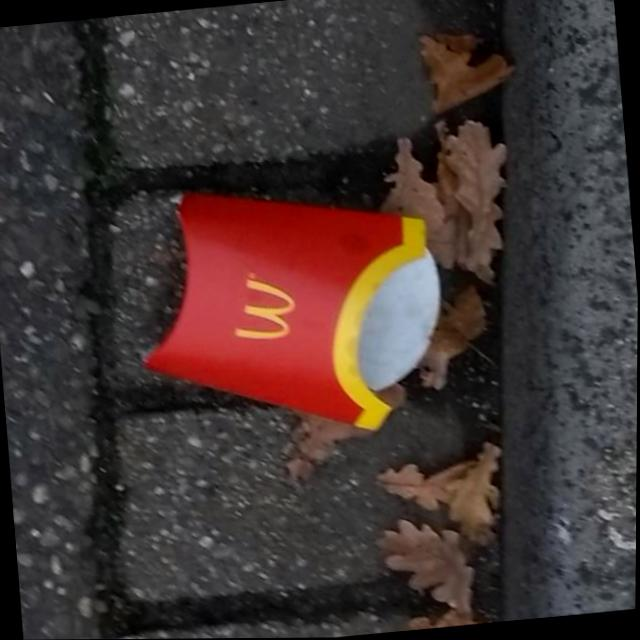Paper: (120, 167, 456, 459)
